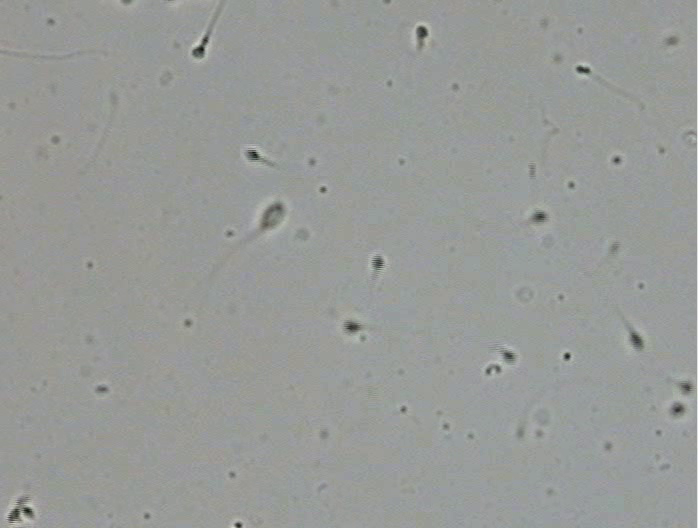S: (260, 202, 287, 230), (629, 332, 644, 351), (371, 254, 385, 271), (342, 321, 361, 333), (244, 148, 260, 162), (7, 508, 21, 524), (192, 45, 205, 59), (503, 350, 516, 364), (415, 25, 428, 39), (21, 506, 34, 519), (533, 211, 547, 223), (575, 65, 591, 75), (679, 382, 692, 394), (672, 404, 685, 415)
